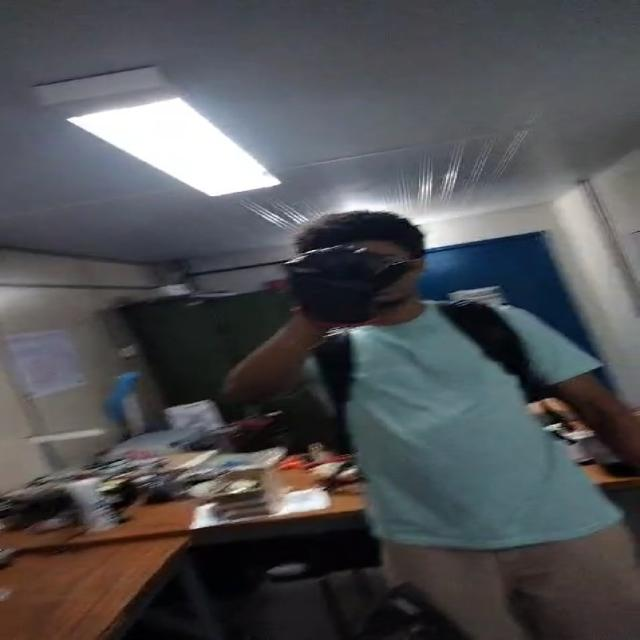Gloves: (286, 246, 409, 330)
